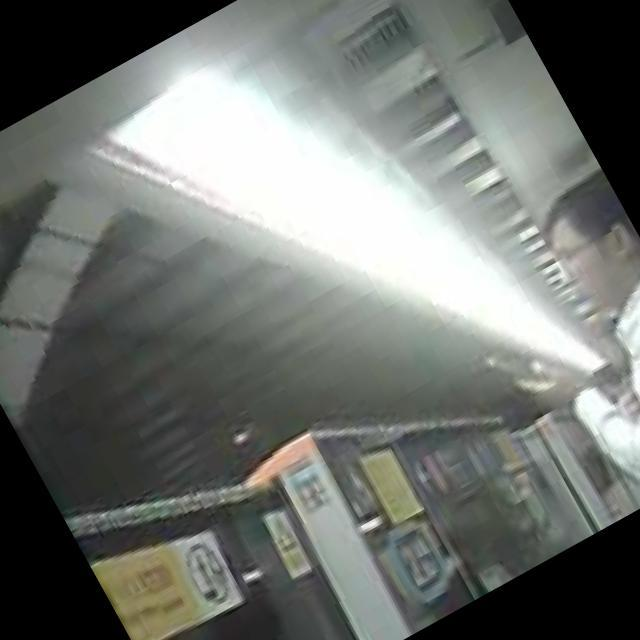person: (448, 169, 640, 530)
